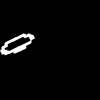chain: (1, 34, 33, 54)
